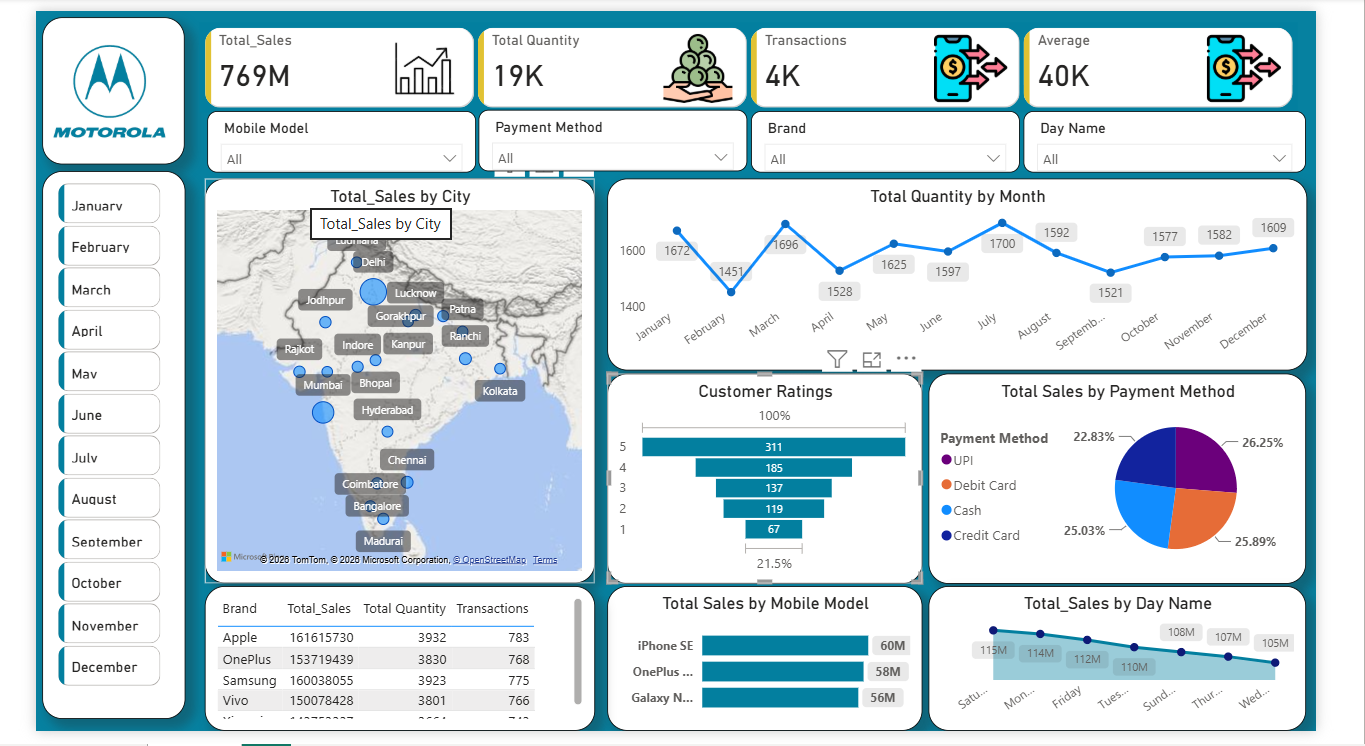

The page's visual inventory and layout, read from the dashboard file:
{"tool":"powerbi","page":{"name":"Page 1","canvas":[1280,720],"ordinal":0},"visuals":[{"type":"shape","box":[6,6,142.4,147.2],"z":0},{"type":"image","box":[18.1,15.7,112.2,127.9],"z":1000},{"type":"shape","box":[6,160.5,143.6,547.7],"z":2000},{"type":"advancedSlicerVisual","fields":{"Values":["Sales_Data.Date.Variation.Date Hierarchy.Month"]},"box":[18.1,167.7,112.2,522.4],"z":3000},{"type":"cardVisual","fields":{"Data":["Sales_Data.Total_Sales","Sales_Data.Total Quantity","Sales_Data.Transactions","Sales_Data.Average Price"]},"box":[158.8,6.2,1111.2,100],"z":4000},{"type":"map","fields":{"Category":["Sales_Data.City"],"Size":["Sales_Data.Total_Sales"]},"box":[168.8,167.5,390,405],"z":5000},{"type":"lineChart","fields":{"Y":["Sales_Data.Total Quantity"],"Category":["Sales_Data.Date.Variation.Date Hierarchy.Month","Sales_Data.Date.Variation.Date Hierarchy.Day"]},"box":[570.6,167.7,699.7,191.8],"z":6000},{"type":"clusteredBarChart","title":"Total Sales by Mobile Model","fields":{"Category":["Sales_Data.Mobile Model"],"Y":["Sales_Data.Total_Sales"]},"box":[571.2,575,315,145],"z":7000},{"type":"pieChart","title":"Total Sales by Payment Method","fields":{"Category":["Sales_Data.Payment Method"],"Y":["Sales_Data.Transactions"]},"box":[892.5,362.5,377.5,210],"z":8000},{"type":"funnel","title":"Customer Ratings","fields":{"Category":["Sales_Data.Customer Ratings"],"Y":["CountNonNull(Sales_Data.Customer Ratings)"]},"box":[571.2,362.5,315,210],"z":9000},{"type":"areaChart","fields":{"Category":["Sales_Data.Day Name"],"Y":["Sales_Data.Total_Sales"]},"box":[892.5,575,377.5,145],"z":10000},{"type":"tableEx","fields":{"Values":["Sales_Data.Brand","Sales_Data.Total_Sales","Sales_Data.Total Quantity","Sales_Data.Transactions"]},"box":[168.8,575,390,145],"z":11000},{"type":"slicer","fields":{"Values":["Sales_Data.Mobile Model"]},"box":[171.2,100,269,61.2],"z":12000},{"type":"slicer","fields":{"Values":["Sales_Data.Payment Method"]},"box":[442.5,98.8,269,61.2],"z":12001},{"type":"slicer","fields":{"Values":["Sales_Data.Brand"]},"box":[715,100,269,61.2],"z":12002},{"type":"slicer","fields":{"Values":["Sales_Data.Day Name"]},"box":[987.5,100,282.5,61.2],"z":12003}]}

Visuals, with their boxes in screenshot pixels (x1, y1, x2, y2), scaled from the page's 1280x720 canvas onto the 1365x746 screenshot:
shape: <region>6, 6, 158, 159</region>
image: <region>19, 16, 139, 149</region>
shape: <region>6, 166, 160, 734</region>
advancedSlicerVisual - Sales_Data.Date.Variation.Date Hierarchy.Month: <region>19, 174, 139, 715</region>
cardVisual - Sales_Data.Total_Sales x Sales_Data.Total Quantity: <region>169, 6, 1354, 110</region>
map - Sales_Data.City x Sales_Data.Total_Sales: <region>180, 174, 596, 593</region>
lineChart - Sales_Data.Total Quantity x Sales_Data.Date.Variation.Date Hierarchy.Month: <region>608, 174, 1355, 372</region>
"Total Sales by Mobile Model" clusteredBarChart: <region>609, 596, 945, 745</region>
"Total Sales by Payment Method" pieChart: <region>952, 376, 1354, 593</region>
"Customer Ratings" funnel: <region>609, 376, 945, 593</region>
areaChart - Sales_Data.Day Name x Sales_Data.Total_Sales: <region>952, 596, 1354, 745</region>
tableEx - Sales_Data.Brand x Sales_Data.Total_Sales: <region>180, 596, 596, 745</region>
slicer - Sales_Data.Mobile Model: <region>183, 104, 469, 167</region>
slicer - Sales_Data.Payment Method: <region>472, 102, 759, 166</region>
slicer - Sales_Data.Brand: <region>762, 104, 1049, 167</region>
slicer - Sales_Data.Day Name: <region>1053, 104, 1354, 167</region>
